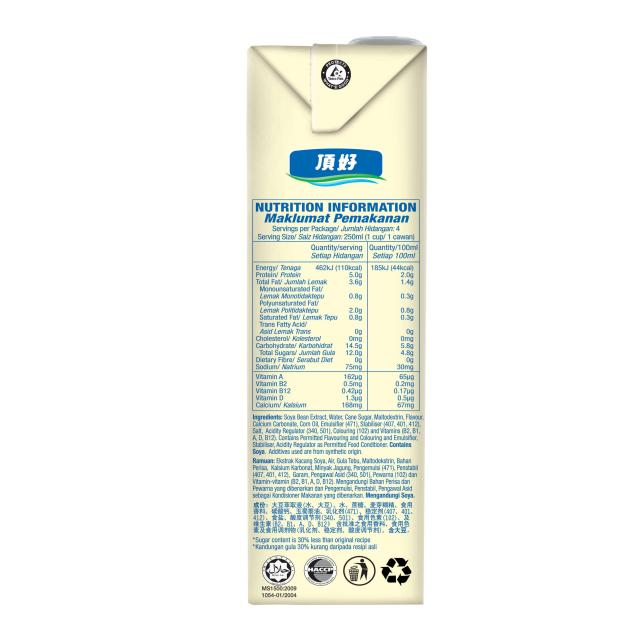drink carton: (244, 35, 429, 608)
